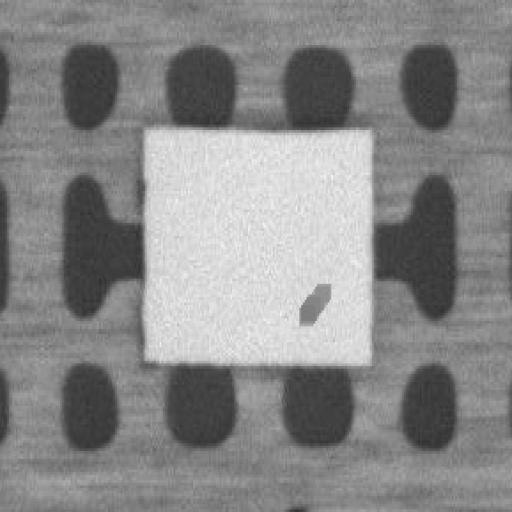DIE_INK: (294, 279, 330, 321)
